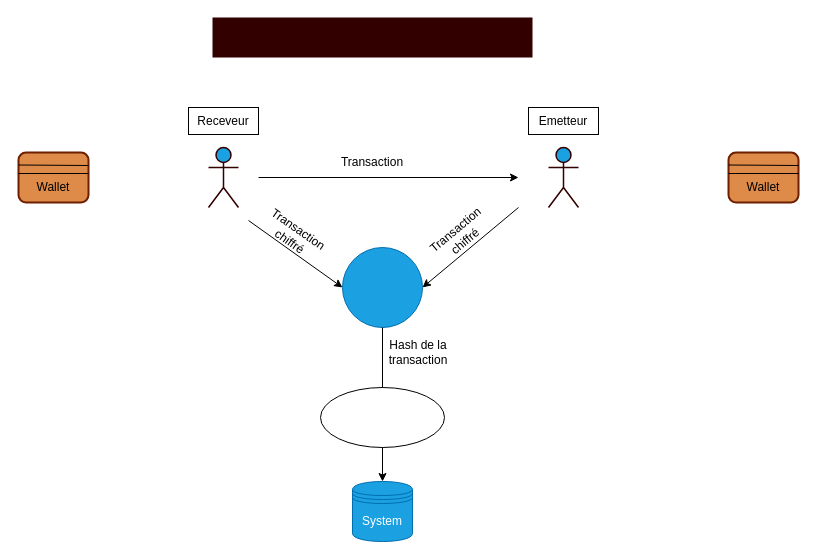
Some shapes in this 817 by 559 pixel diagram are drawn without their labels. Each missing label, with the centre of its shape:
"Comparaison du hash de la transaction" belongs at (x=382, y=417).
"Consensus" belongs at (x=382, y=287).
"Transaction via consensus - 1" belongs at (x=372, y=37).
